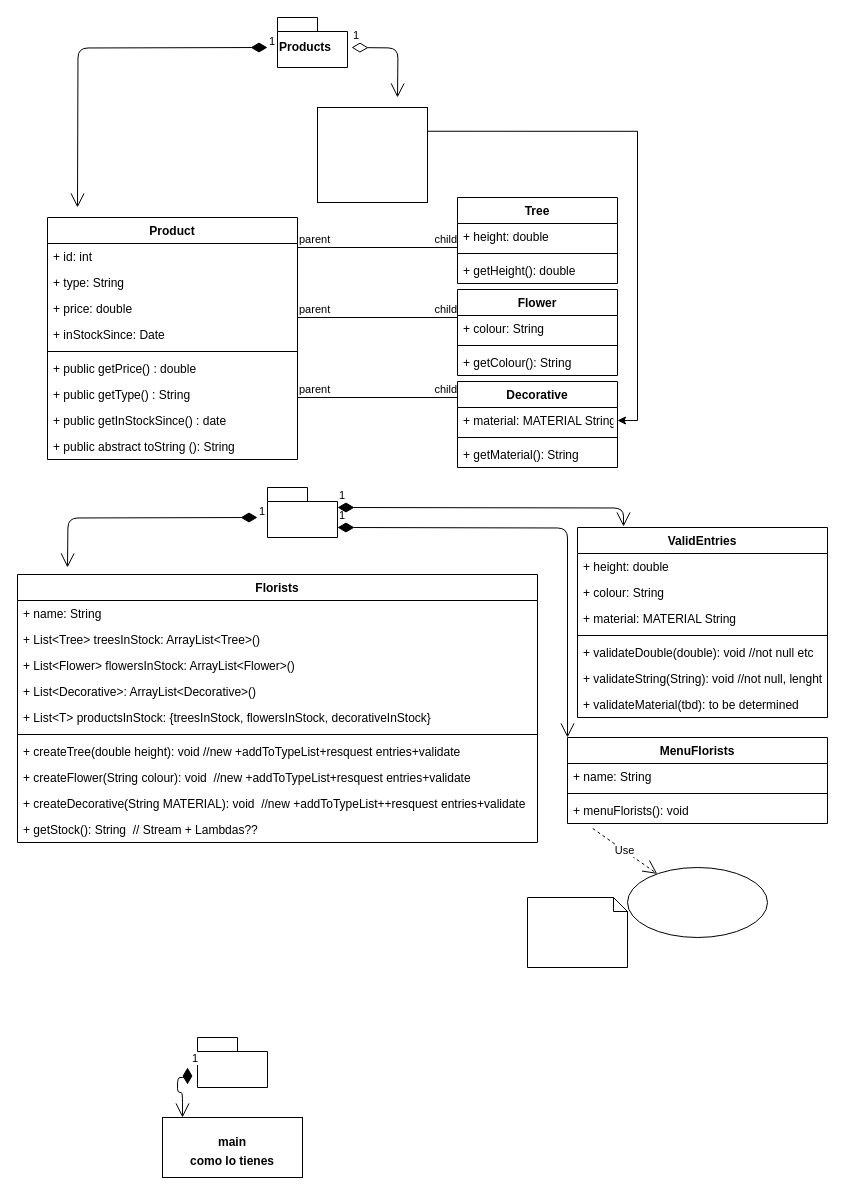
Image size: 858x1195. Some labels were removed from this diagram. Here are the shapes that lost their labels. From the top down, the centre of each, then its label:
point (372, 154): <Enum> MATERIAL Wooden Plastic
point (302, 512): Controller
point (697, 902): Use Case: Option list
point (577, 932): Básicamente como lo tienes, pero descargaría la creación a los métodos create
point (232, 1062): FloristView
